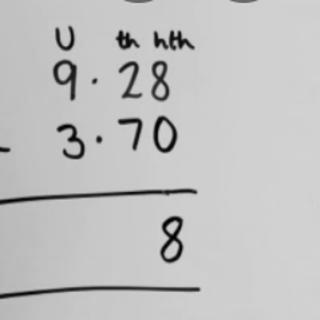.: (93, 134, 106, 148), (89, 74, 100, 86)
0: (152, 115, 178, 154)
2: (117, 61, 143, 101)
3: (54, 123, 88, 158)
7: (118, 117, 144, 150)
8: (157, 216, 185, 261), (150, 60, 171, 102)
9: (51, 59, 79, 102)
